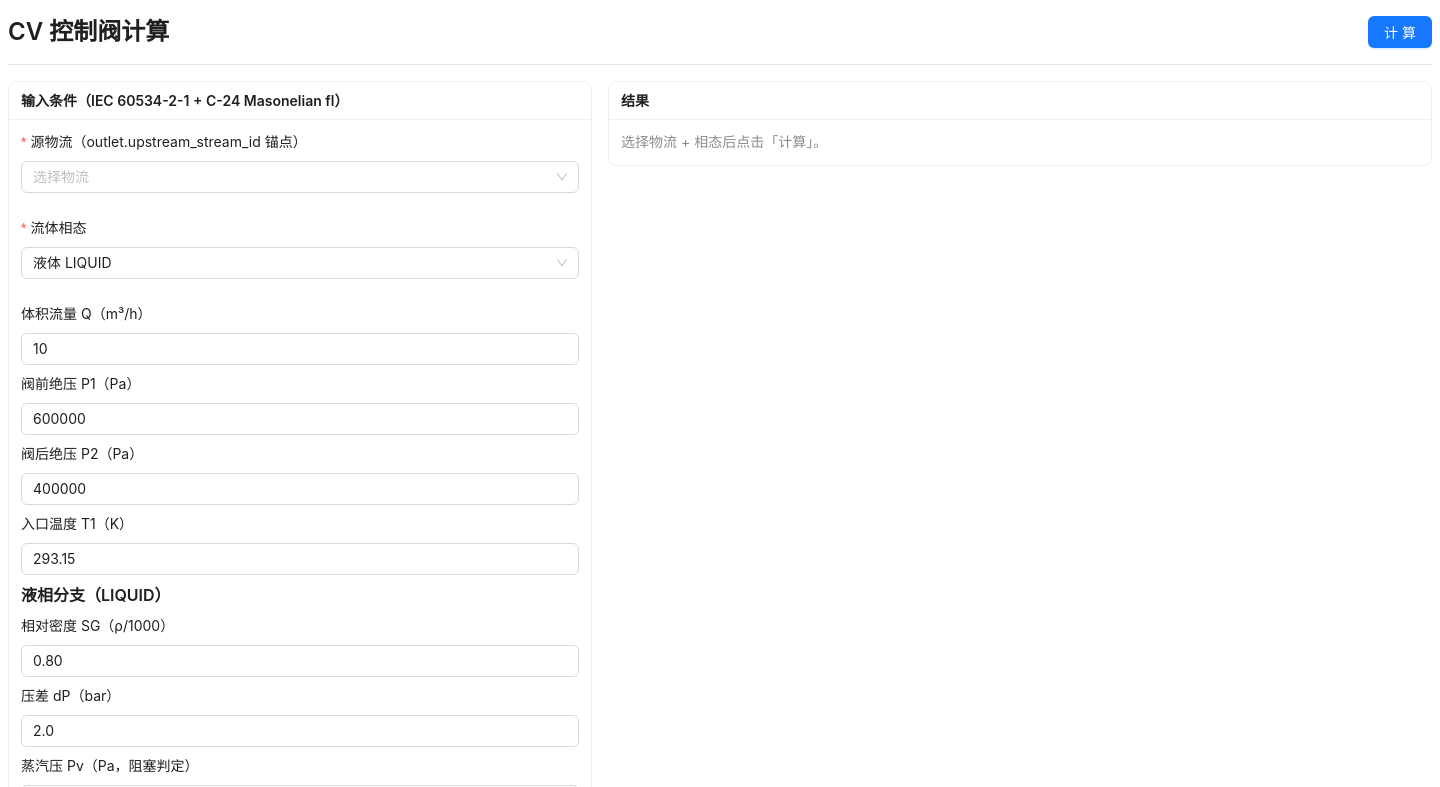
Test: CvComputePage — 计算路径 › 未选物流 → 点计算 → 显示「请选择源物流」
This screenshot has width=1440, height=787.
Click the button with test id "cv-calculate": [1400, 32] box 1368,16 -> 1432,48
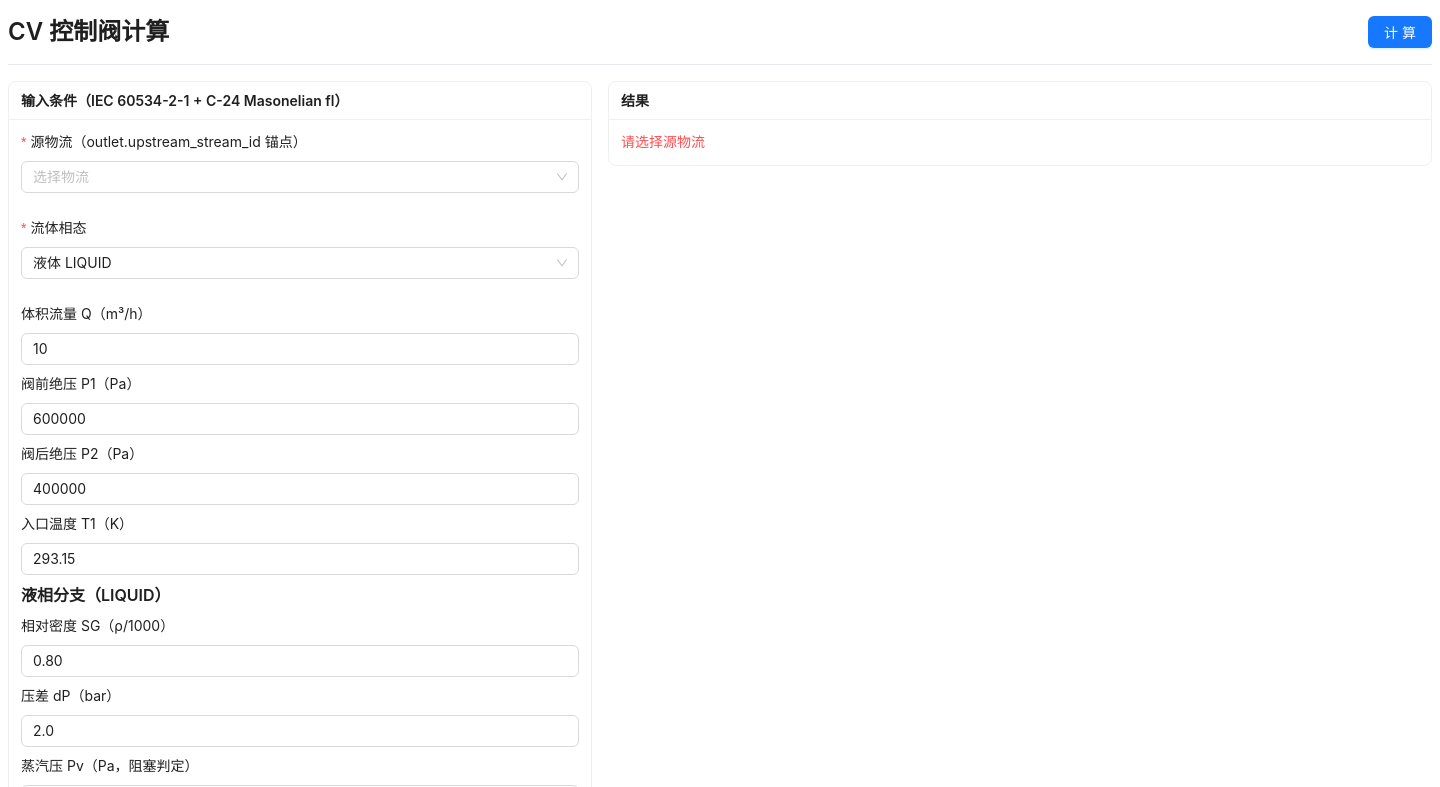
Expected: the text with test id "cv-error" reads "请选择源物流", 621,133 -> 705,150
